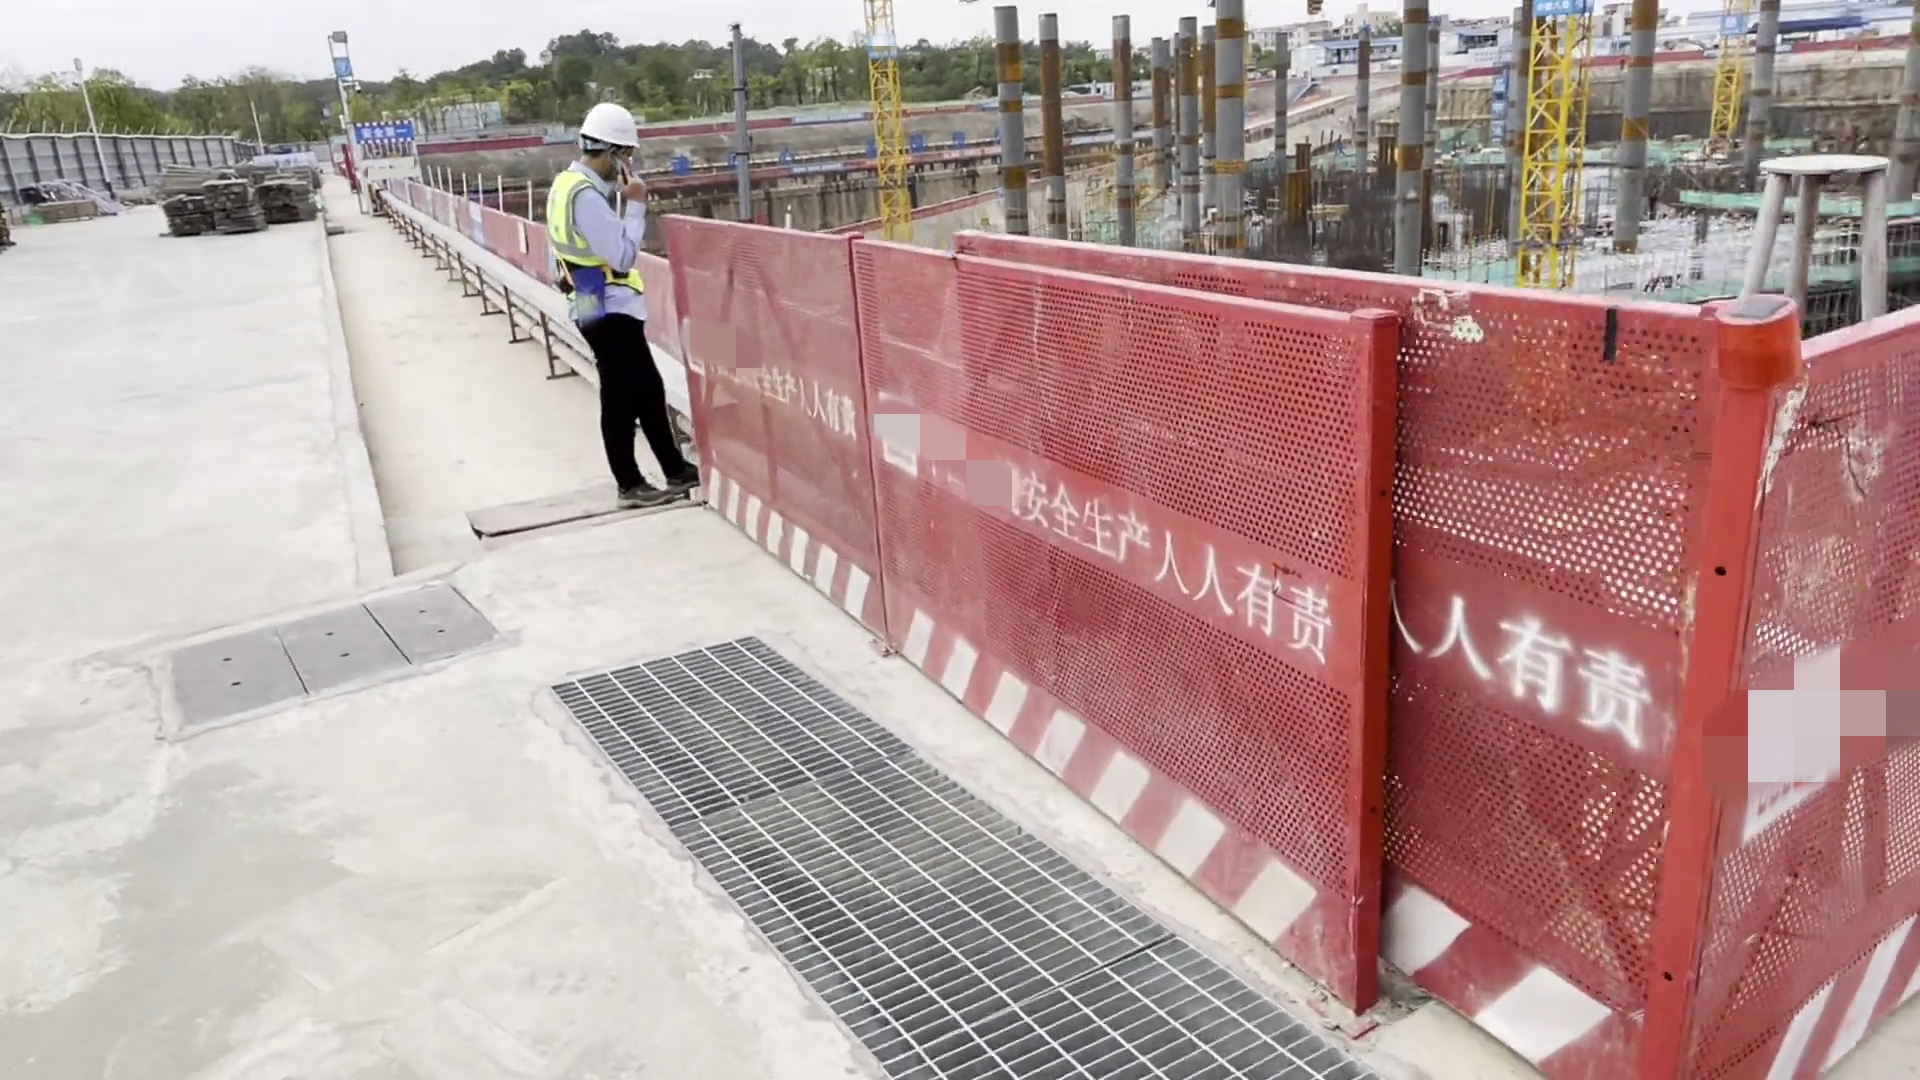fence: (653, 204, 1371, 993), (1405, 281, 1906, 1080)
helmet: (577, 101, 647, 152)
person: (548, 101, 704, 505)
slogan: (790, 110, 865, 126), (463, 200, 484, 245), (353, 127, 411, 142), (941, 146, 1004, 158), (788, 164, 844, 175), (905, 106, 968, 113)
vest: (544, 171, 636, 303)
